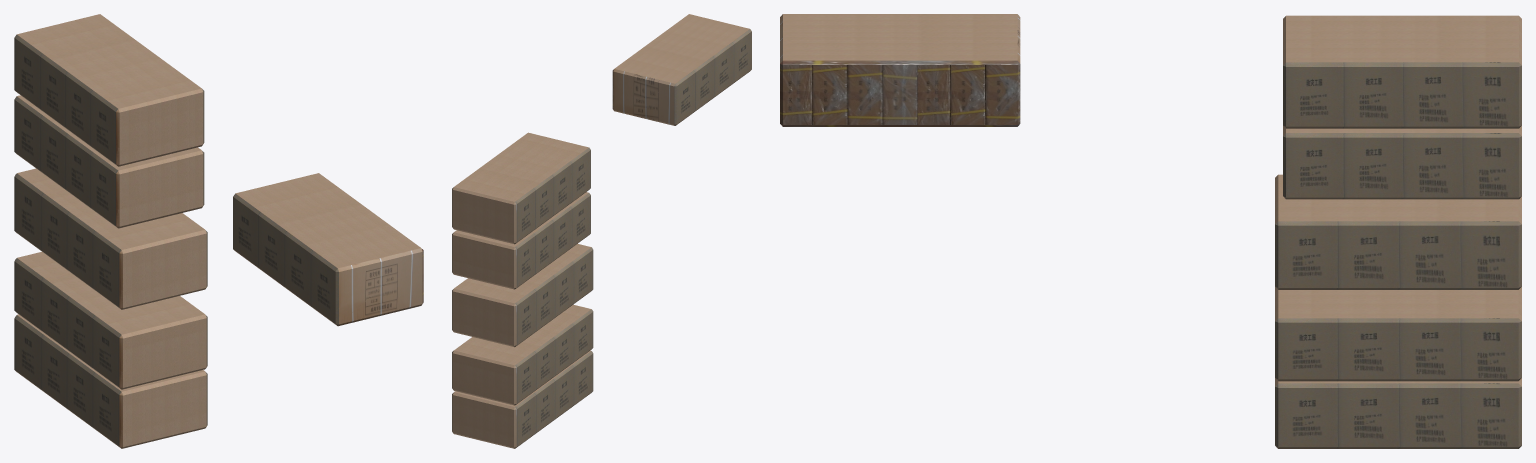
Rendered from fangzaigongfu.FBX.
The picture shows the model from 3 angles, left to right: view 1: azimuth 30°, elevation 25°; view 2: azimuth 150°, elevation 25°; view 3: azimuth 270°, elevation 25°; orthographic projection. The views are drawn at different scales.
Visible parts, largest first — view 1: Box9085, Box9094; view 2: Box9085, Box9094; view 3: Box9085, Box9094.
Part boxes in pixels (<box>): Box9085: <box>14,14,207,448</box>; Box9094: <box>233,173,423,326</box>; Box9085: <box>452,132,593,448</box>; Box9094: <box>612,14,751,125</box>; Box9085: <box>1275,15,1521,448</box>; Box9094: <box>780,14,1020,126</box>.
Bounding box in the file's own units: 0.7379 × 4.68 × 2.7.
